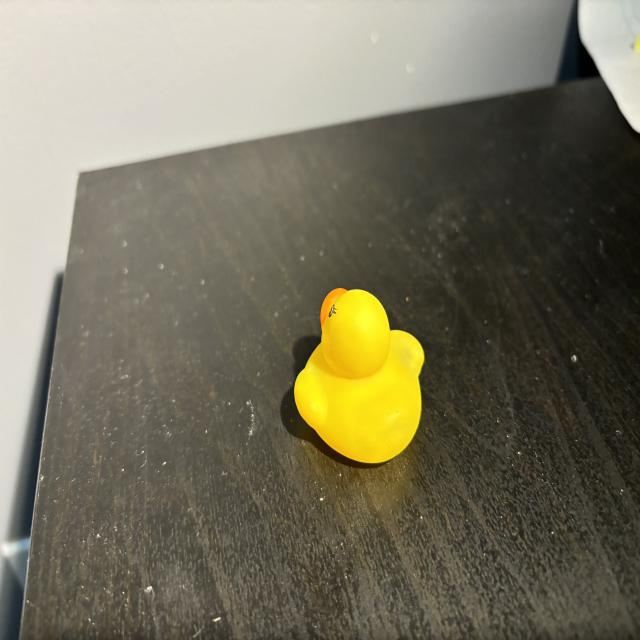duck_regular: (297, 287, 426, 465)
